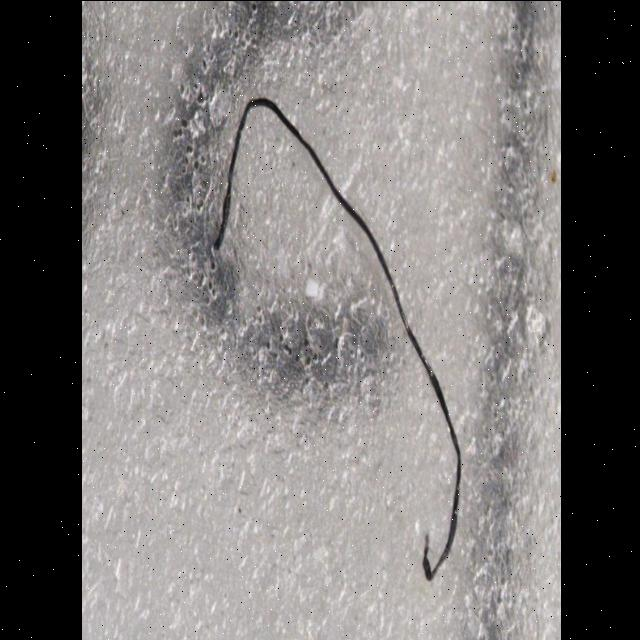Fibre: (210, 95, 460, 582)
